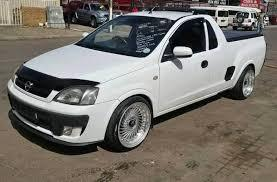opel: (20, 78, 36, 99)
